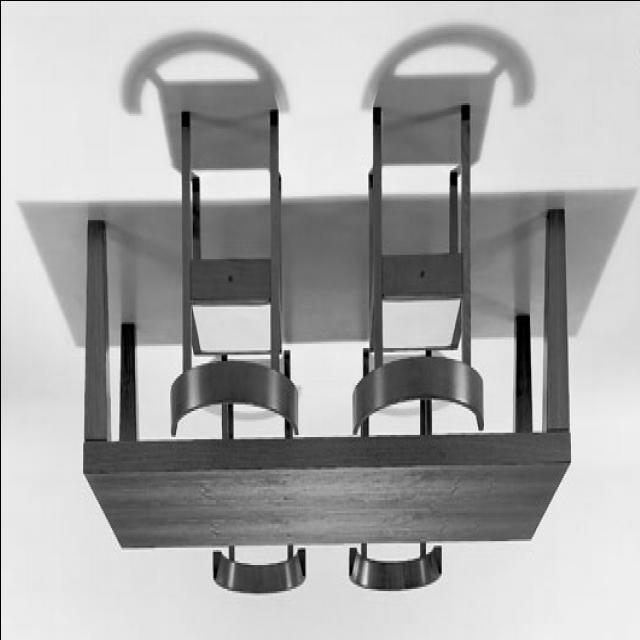chair: (352, 106, 482, 433), (168, 114, 298, 434), (210, 348, 310, 598), (348, 343, 441, 590)
table: (83, 210, 574, 543)
